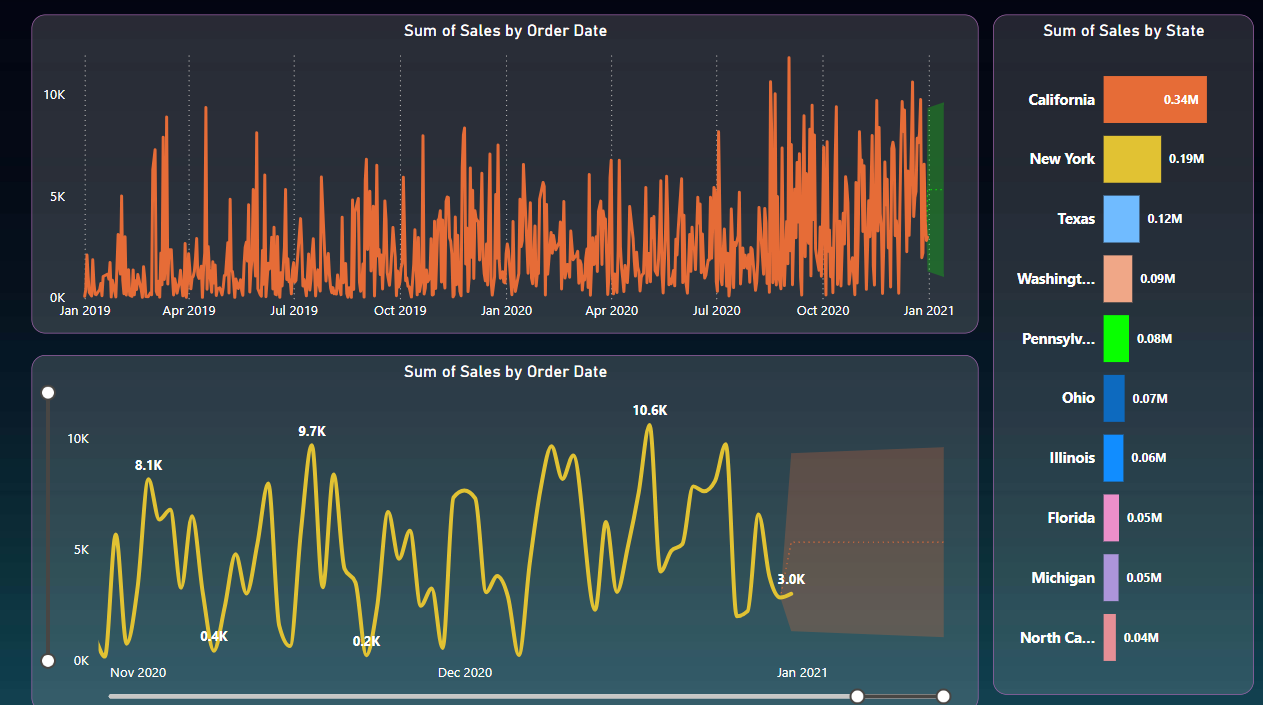

The page's visual inventory and layout, read from the dashboard file:
{"tool":"powerbi","page":{"name":"Page 2","canvas":[1280,720],"ordinal":1},"visuals":[{"type":"lineChart","fields":{"Y":["Sum(SuperStore_Sales_Dataset.Sales)"],"Category":["SuperStore_Sales_Dataset.Order Date"]},"box":[31.8,16.6,956.2,322.3],"z":0},{"type":"lineChart","fields":{"Y":["Sum(SuperStore_Sales_Dataset.Sales)"],"Category":["SuperStore_Sales_Dataset.Order Date"]},"box":[31.8,360.1,956.2,360.1],"z":1000},{"type":"barChart","fields":{"Category":["SuperStore_Sales_Dataset.State"],"Y":["Sum(SuperStore_Sales_Dataset.Sales)"]},"box":[1003.1,16.6,263.3,686.9],"z":2000}]}

Visuals, with their boxes in screenshot pixels (x1, y1, x2, y2), scaled from the page's 1280x720 canvas onto the 1263x705 screenshot:
lineChart - Sum(SuperStore_Sales_Dataset.Sales) x SuperStore_Sales_Dataset.Order Date: box(31, 16, 975, 332)
lineChart - Sum(SuperStore_Sales_Dataset.Sales) x SuperStore_Sales_Dataset.Order Date: box(31, 353, 975, 704)
barChart - SuperStore_Sales_Dataset.State x Sum(SuperStore_Sales_Dataset.Sales): box(990, 16, 1250, 689)
